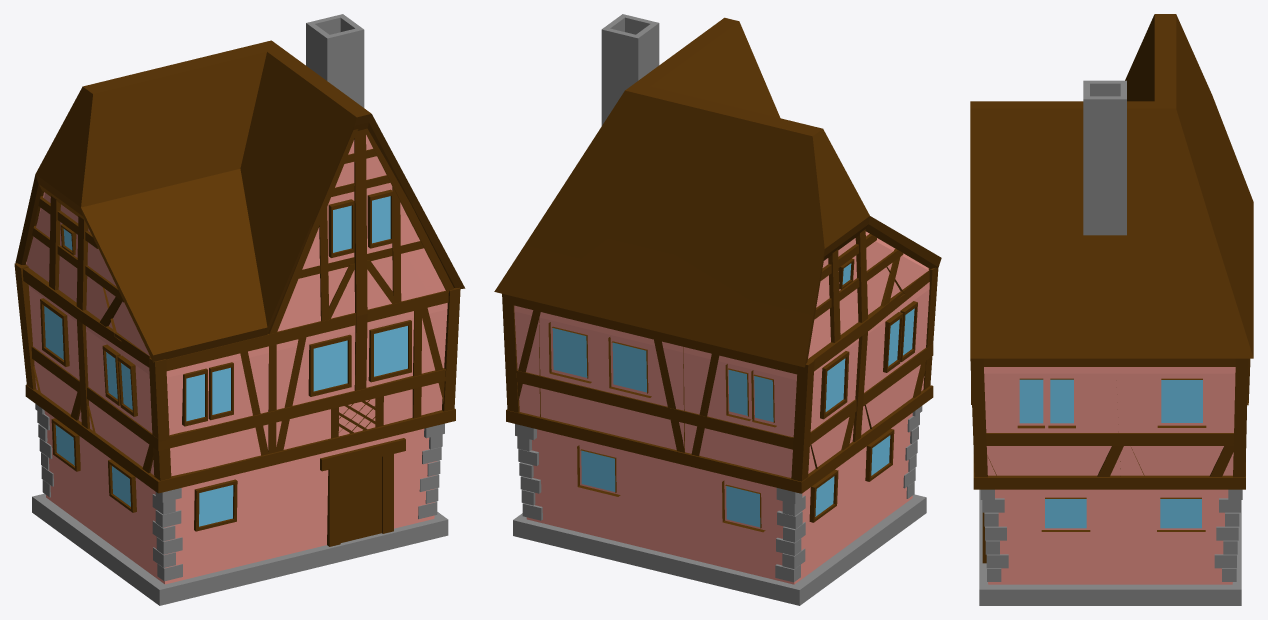
The picture shows the model from 3 angles, left to right: view 1: azimuth 30°, elevation 25°; view 2: azimuth 150°, elevation 25°; view 3: azimuth 270°, elevation 25°; orthographic projection. The views are drawn at different scales.
Visible parts, largest first — view 1: base_Cube.001; view 2: base_Cube.001; view 3: base_Cube.001.
Part boxes in pixels (x1,y1,x2,y2): base_Cube.001: (14,14,465,605); base_Cube.001: (494,14,941,605); base_Cube.001: (970,14,1253,605).
Size of the model in its own units: 0.1635 by 0.2369 by 0.1242.
4 materials, 4 textured.
